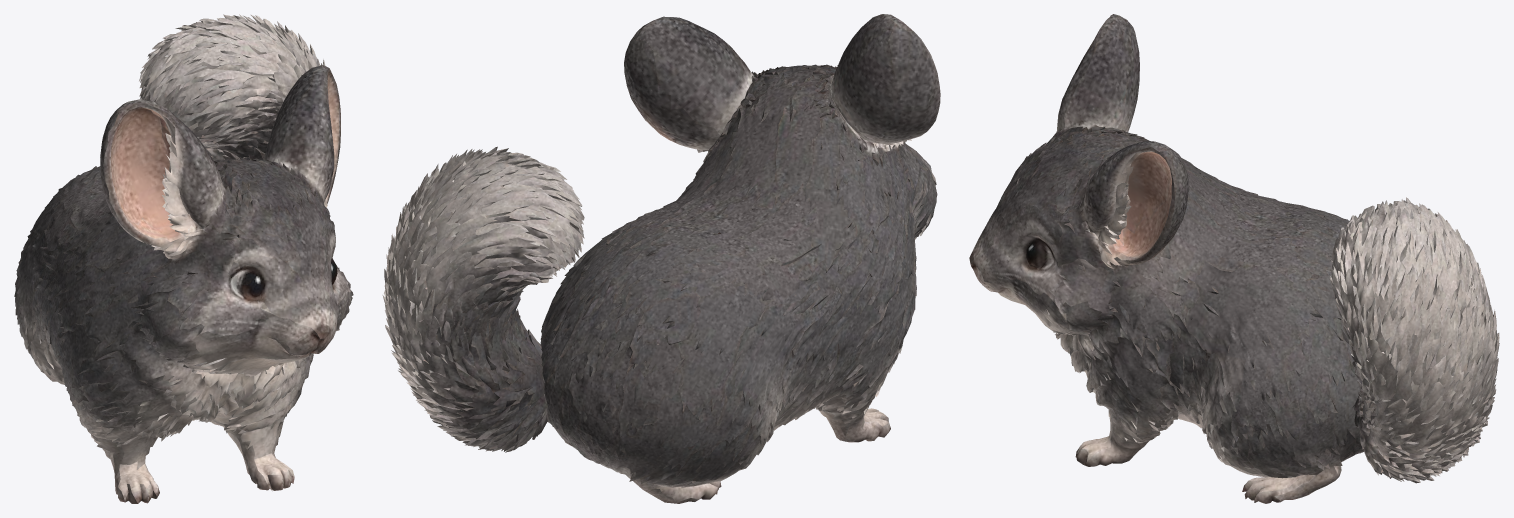
Rendered from chin_storybook_lite.glb.
The picture shows the model from 3 angles, left to right: view 1: azimuth 30°, elevation 25°; view 2: azimuth 150°, elevation 25°; view 3: azimuth 270°, elevation 25°; orthographic projection. The views are drawn at different scales.
Visible parts, largest first — view 1: geometry_0; view 2: geometry_0; view 3: geometry_0.
Part boxes in pixels (x1,y1,x2,y2): geometry_0: (14,14,353,503); geometry_0: (382,14,940,503); geometry_0: (969,14,1499,503).
Bounding box in the file's own units: 1.5 × 1.53 × 1.9.
Materials: 1 (1 with a texture image).
